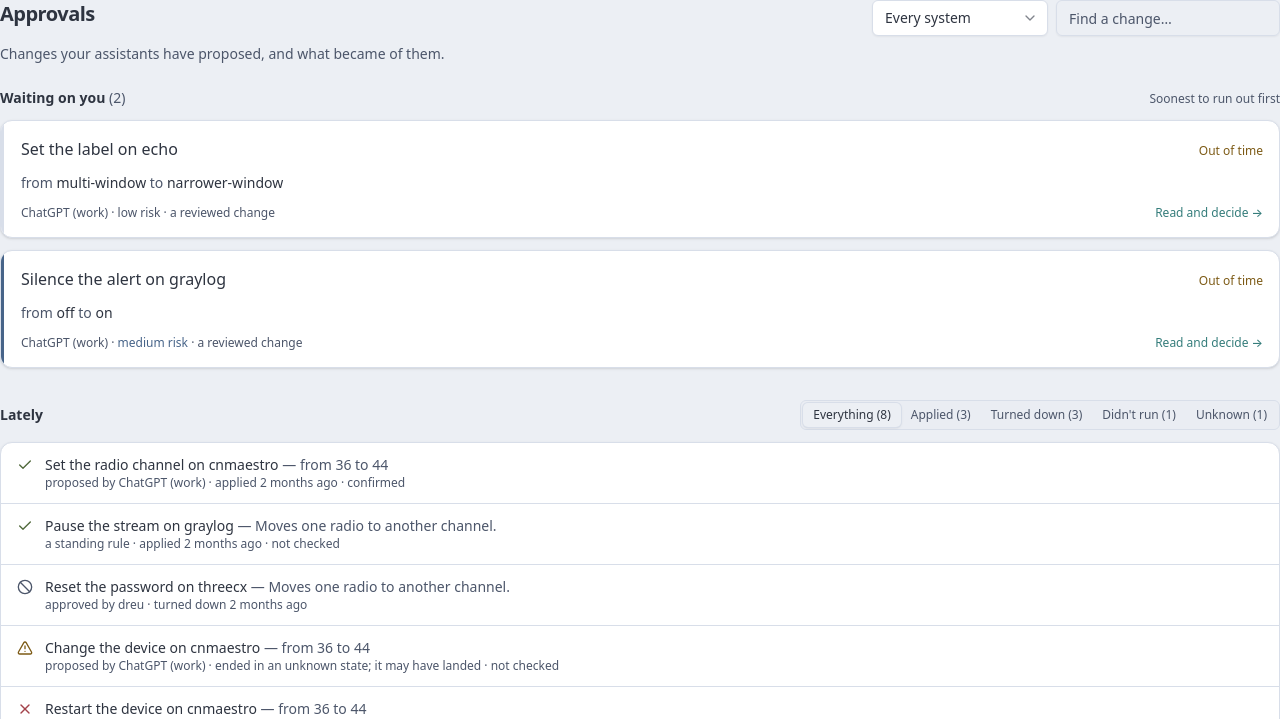
cutting the list › finds a change by the machine's name for it, and by its id
The image size is (1280, 719).
Type "device.reboot" into the field labelled "Find a change" at x=1168, y=18, box top-left (1056, 0), bottom-right (1279, 36)
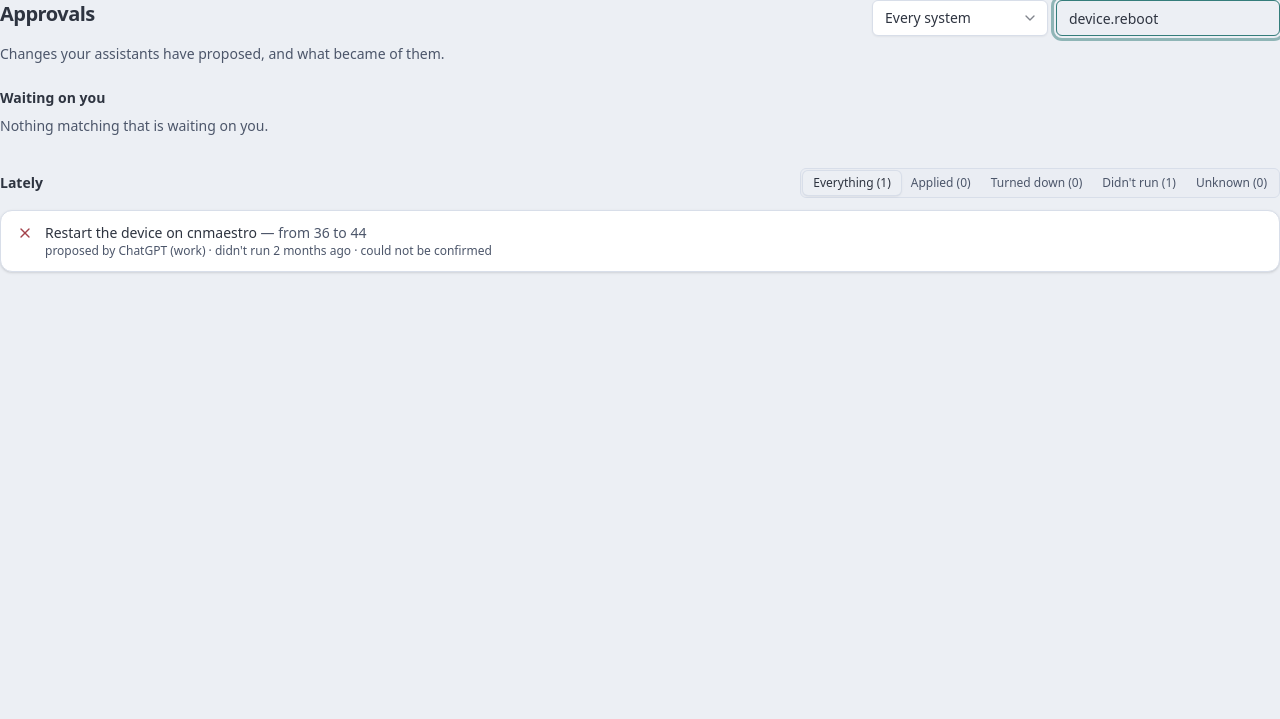
Check: the number of list items is 1, box top-left (17, 223), bottom-right (492, 259)
Replace the text in the field named "Find a change" with "op-4" at x=1168, y=18, box top-left (1056, 0), bottom-right (1279, 36)
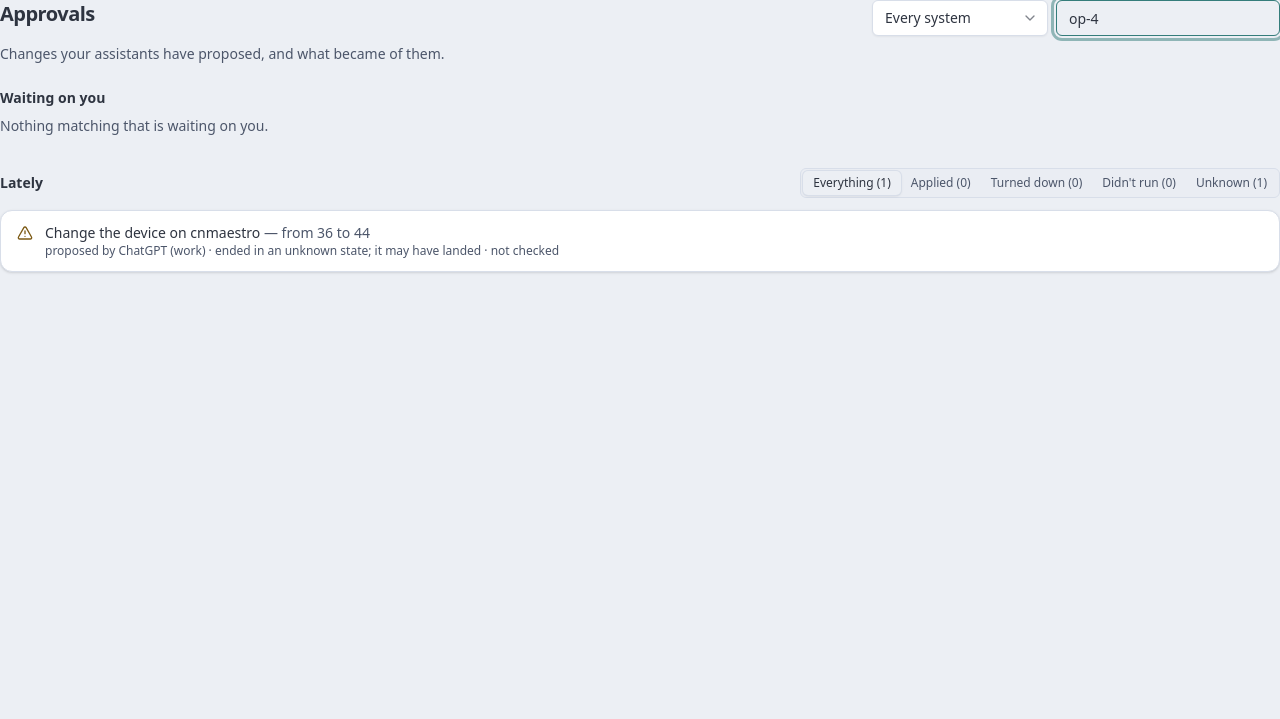
Check: the list item shows "Change the device on cnmaestro", box top-left (45, 223), bottom-right (260, 242)
Check: the number of list items is 1, box top-left (17, 223), bottom-right (559, 259)
